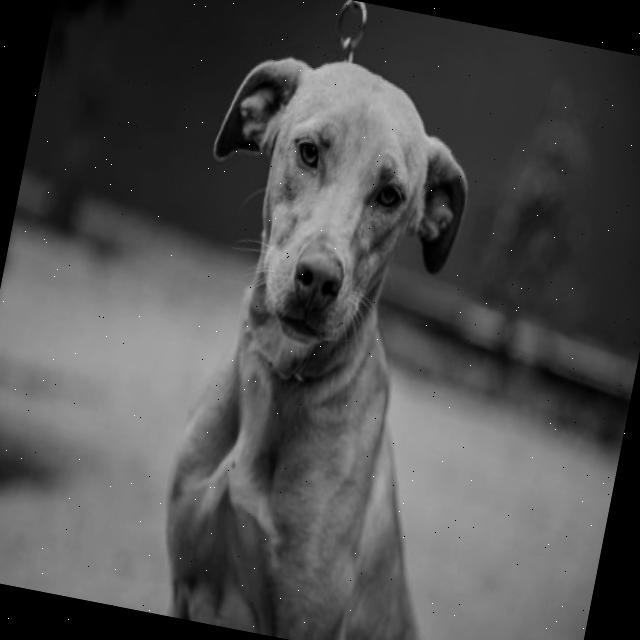labrador_retriever_dog: (128, 2, 515, 470)
